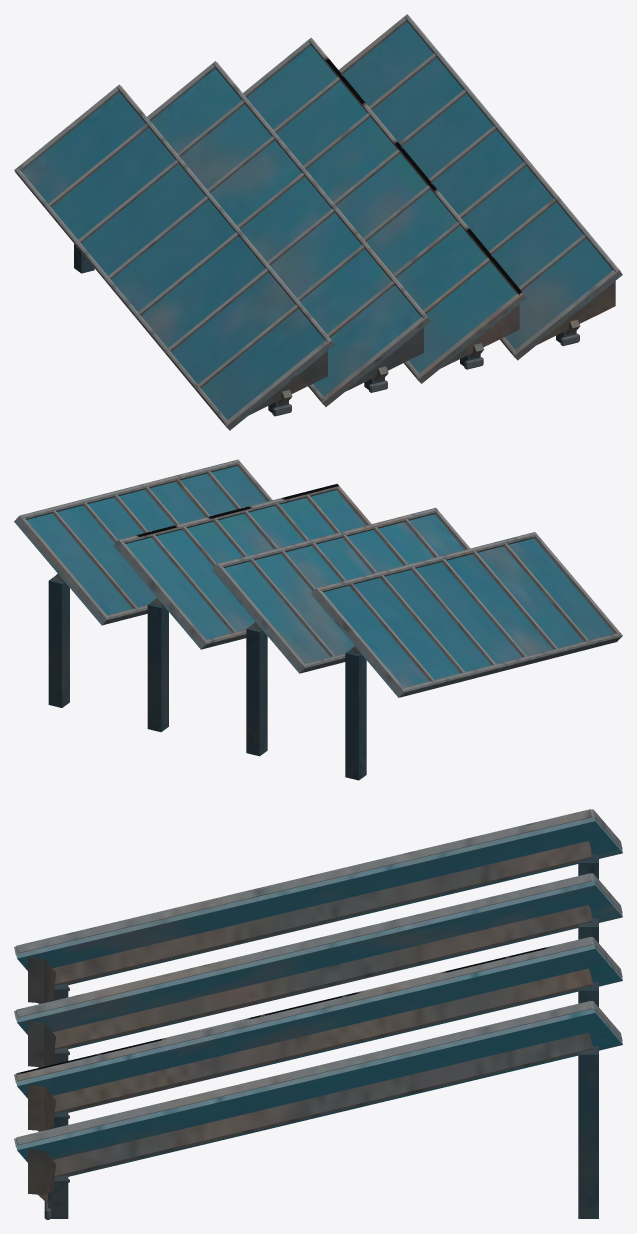
Rendered from solar-panel.glb.
The picture shows the model from 3 angles, top to bottom: view 1: azimuth 30°, elevation 25°; view 2: azimuth 150°, elevation 25°; view 3: azimuth 270°, elevation 25°; orthographic projection. The views are drawn at different scales.
Visible parts, largest first — view 1: body; view 2: body; view 3: body.
Boxes of the visible parts, x1,y1,x2,y2 form: body: [14, 14, 622, 430]; body: [14, 459, 622, 780]; body: [14, 809, 622, 1219].
Bounding box in the file's own units: 2.96 × 1.3 × 2.95.
Materials: 1 (1 with a texture image).
